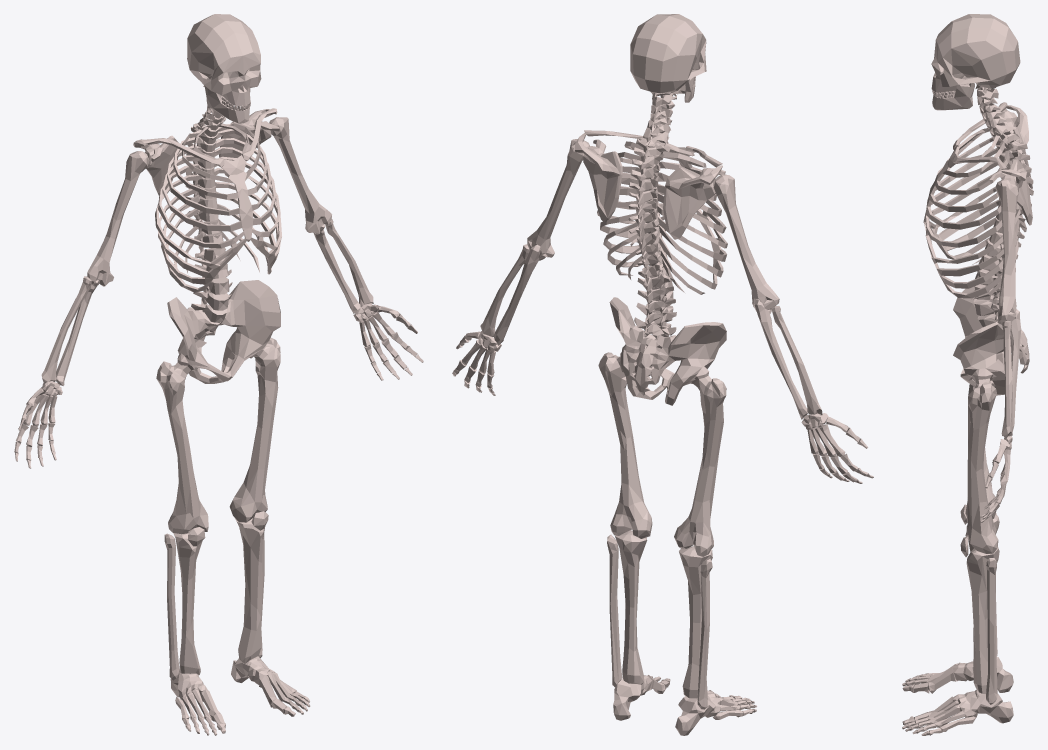
File: final-skeleton.glb
3 renders of one model, left to right at view 1: azimuth 30°, elevation 25°; view 2: azimuth 150°, elevation 25°; view 3: azimuth 270°, elevation 25°, orthographic. The views are drawn at different scales.
Visible parts, largest first — view 1: ribs, pelvis, cranium, femur.L, femur.R, tibia.L, tibia.R, humerus.R, humerus.L, fibula.R, scapula.R, radius.R (+6 smaller); view 2: ribs, pelvis, cranium, femur.R, femur.L, tibia.L, scapula.R, scapula.L, humerus.R, tibia.R, humerus.L, fibula.L (+7 smaller); view 3: ribs, cranium, femur.L, pelvis, tibia.L, humerus.L, fibula.L, tarsus.L, radius.L, scapula.L, mandible, tarsus.R (+8 smaller).
Boxes of the visible parts, x1,y1,x2,y2 form: ribs: (155,123,281,292); pelvis: (167,280,280,383); cranium: (187,14,261,105); femur.L: (229,338,280,522); femur.R: (156,353,208,534); tibia.L: (234,517,265,663); tibia.R: (173,533,202,675); humerus.R: (87,151,149,286); humerus.L: (269,117,331,234); fibula.R: (164,533,179,680); scapula.R: (133,135,178,195); radius.R: (41,276,91,384); ribs: (597,139,727,294); pelvis: (609,297,726,405); cranium: (630,14,706,93); femur.R: (674,366,726,556); femur.L: (598,352,652,538); tibia.L: (615,530,647,684); scapula.R: (663,165,725,239); scapula.L: (574,133,622,222); humerus.R: (713,174,779,311); tibia.R: (679,546,712,698); humerus.L: (527,139,589,260); fibula.L: (607,534,622,687); ribs: (923,128,1020,299); cranium: (931,14,1020,92); femur.L: (965,368,998,553); pelvis: (953,286,1029,395); tibia.L: (966,546,999,693); humerus.L: (995,178,1018,324); fibula.L: (986,558,997,704); tarsus.L: (952,689,1013,723); radius.L: (1001,320,1012,439); scapula.L: (989,158,1032,225); mandible: (932,76,974,110); tarsus.R: (952,656,1013,692).
Size of the model in its own units: 1.17 by 1.86 by 0.3222.
